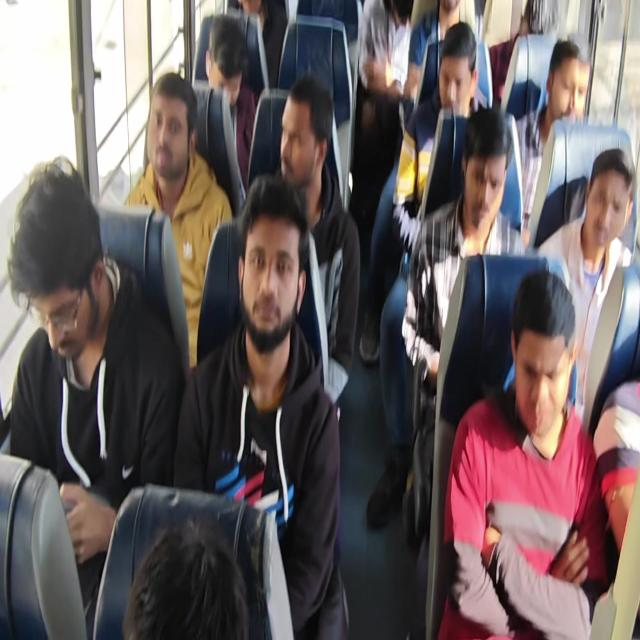person: (2, 1, 638, 638), (7, 159, 184, 636), (173, 172, 349, 638), (437, 270, 610, 638), (401, 106, 527, 539), (359, 21, 484, 363), (123, 71, 233, 369), (276, 73, 361, 415), (536, 147, 634, 426), (392, 21, 484, 252), (122, 516, 251, 639), (513, 39, 582, 245), (351, 0, 414, 218), (204, 13, 257, 193), (593, 377, 639, 553), (404, 0, 461, 101), (488, 2, 534, 106), (236, 0, 287, 90)
